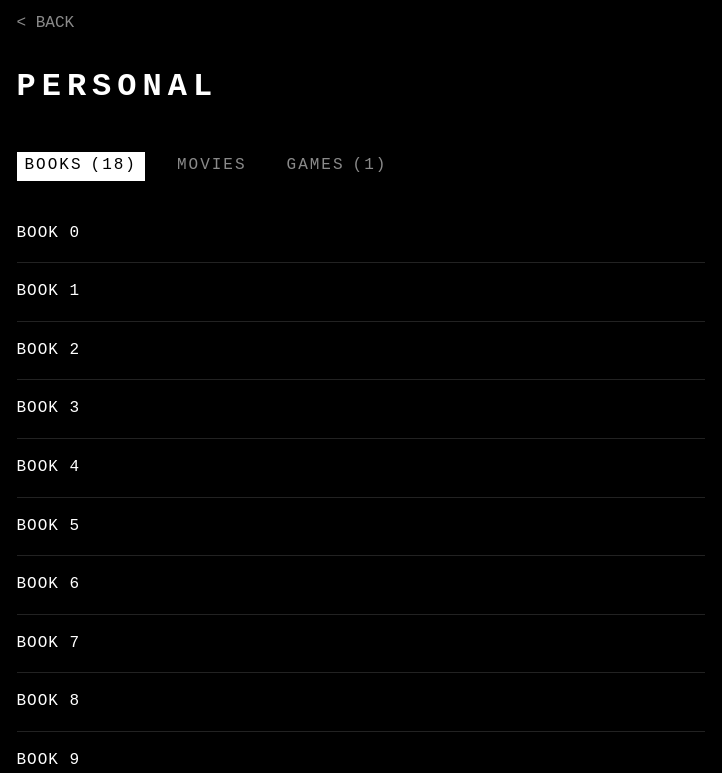
Test case: an opened tab counts its loaded list, not /meta
Expected: the heading "book 0" is shown, [16, 224, 80, 242]
Expected: the tab "books(18)" is shown, [16, 152, 145, 181]
Click the tab "games(1)": (337, 166) [278, 152, 395, 181]
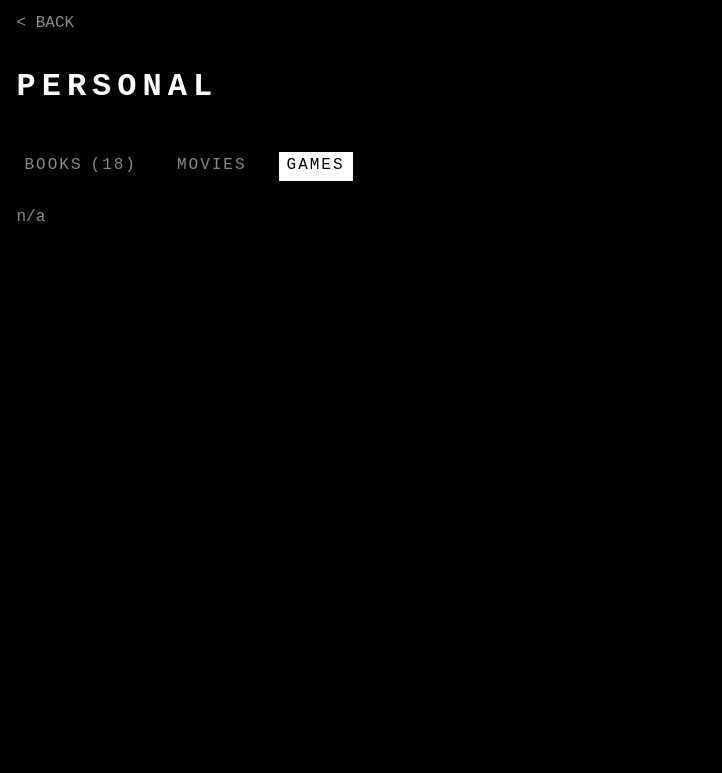
Result: the text "n/a" is shown at [16, 208, 45, 226]
Result: the tab "games" is shown at [278, 152, 352, 181]
